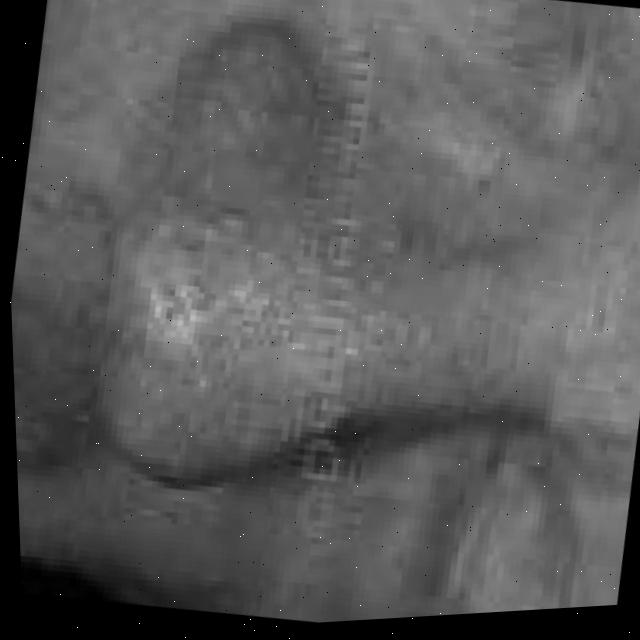Melasma: (117, 31, 394, 605), (573, 393, 640, 473)
